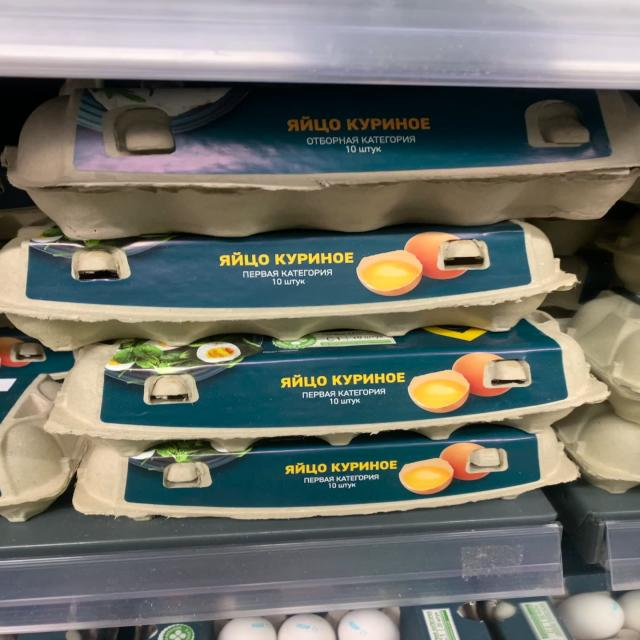egg box: (5, 88, 638, 244), (41, 312, 613, 456), (0, 228, 581, 352), (68, 426, 582, 520)
